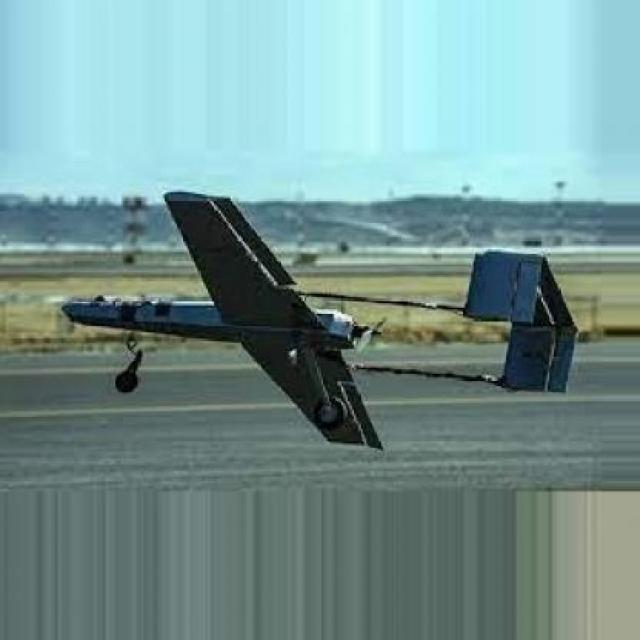iha: (39, 137, 608, 462)
